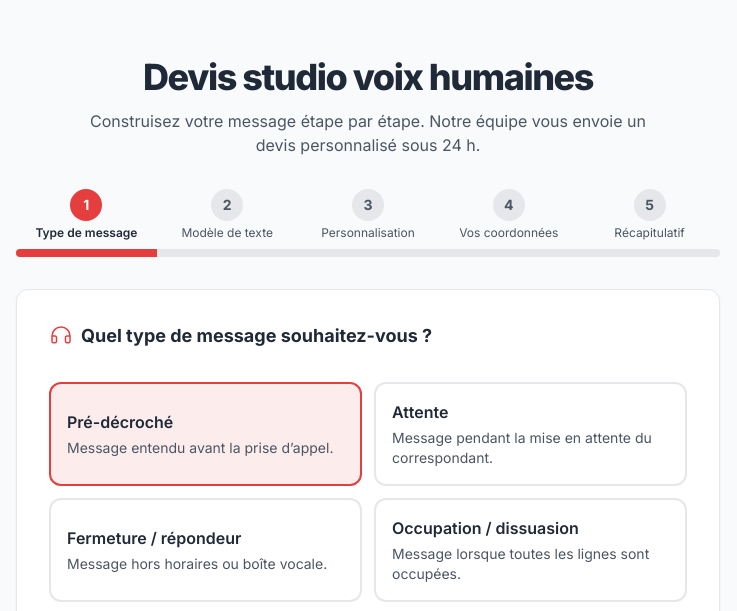
StudioDevisPage › permet de continuer avec un texte libre sur une catégorie sans modèle
Click the button with aria-label "Choisir Occupation".
click(530, 550)  # box [374, 498, 687, 602]
(page scrolled)
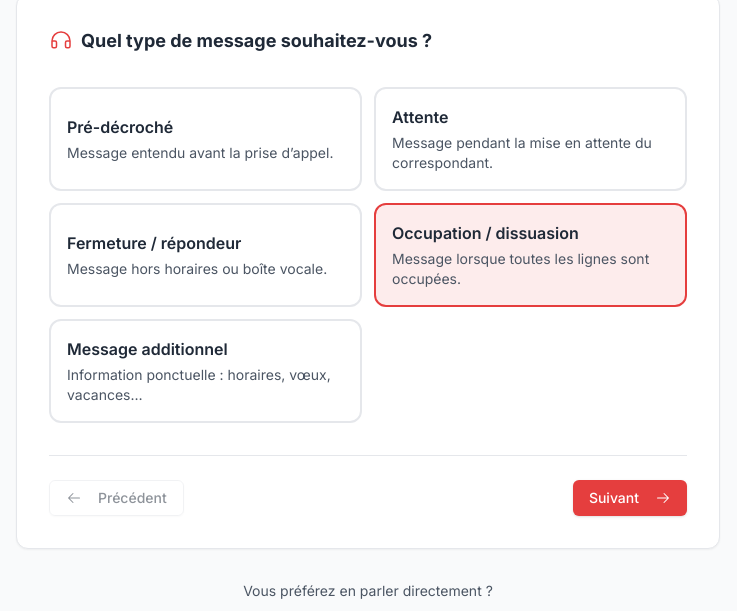
Click the button "Suivant".
click(630, 498)  # box [573, 480, 687, 516]
(page scrolled)
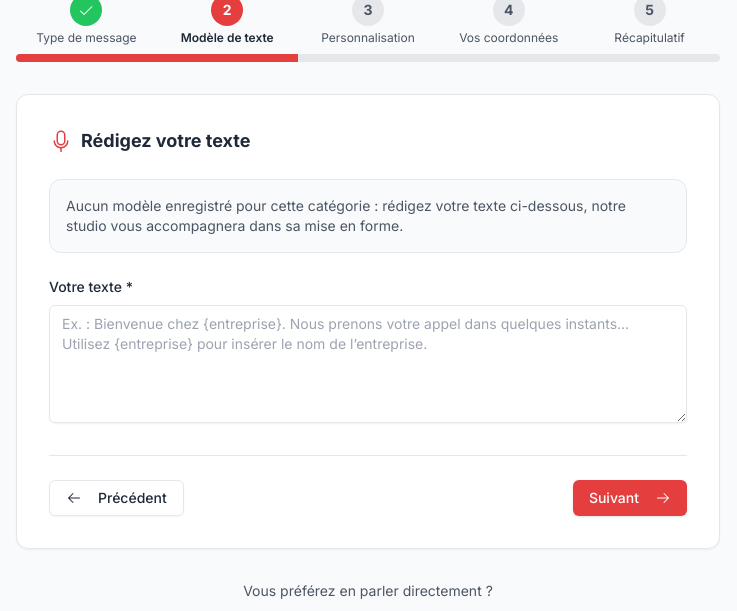
Result: the text "Aucun modèle enregistré pour cette catégorie" is shown at [66, 197, 626, 234]
Note: Sans texte, l'erreur ne doit plus proposer de sélectionner un modèle.
Click the button "Suivant".
click(630, 498)  # box [573, 480, 687, 516]
(page scrolled)
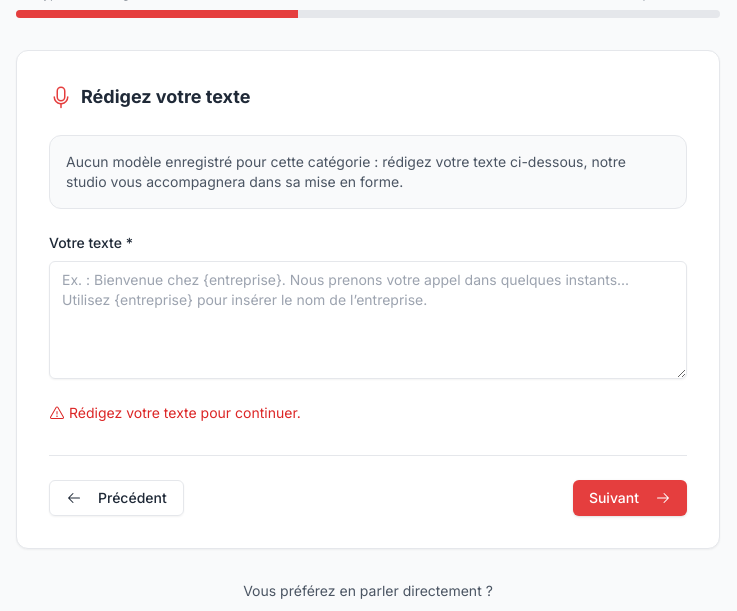
Result: the text "Rédigez votre texte pour continuer." is shown at [49, 404, 301, 421]
Replace the text in the text box labelled "Votre texte *" with "Toutes nos lignes sont occupées." at [368, 320], box [49, 261, 687, 379]
(page scrolled)
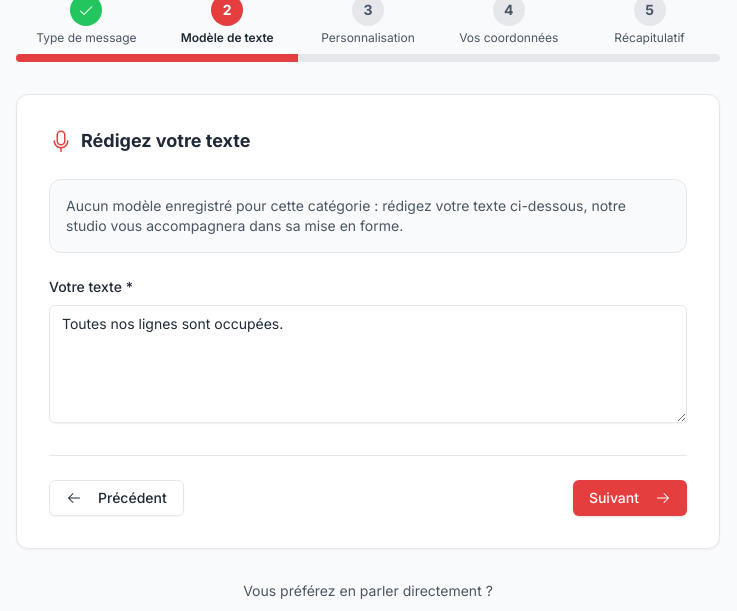
Click the button "Suivant".
click(630, 498)  # box [573, 480, 687, 516]
(page scrolled)
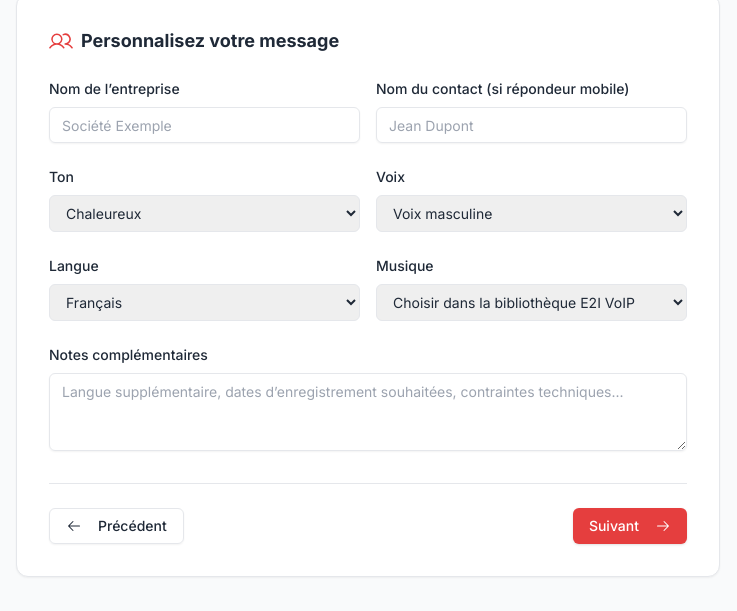
Result: the heading "Personnalisez votre message" is shown at [49, 29, 339, 53]
